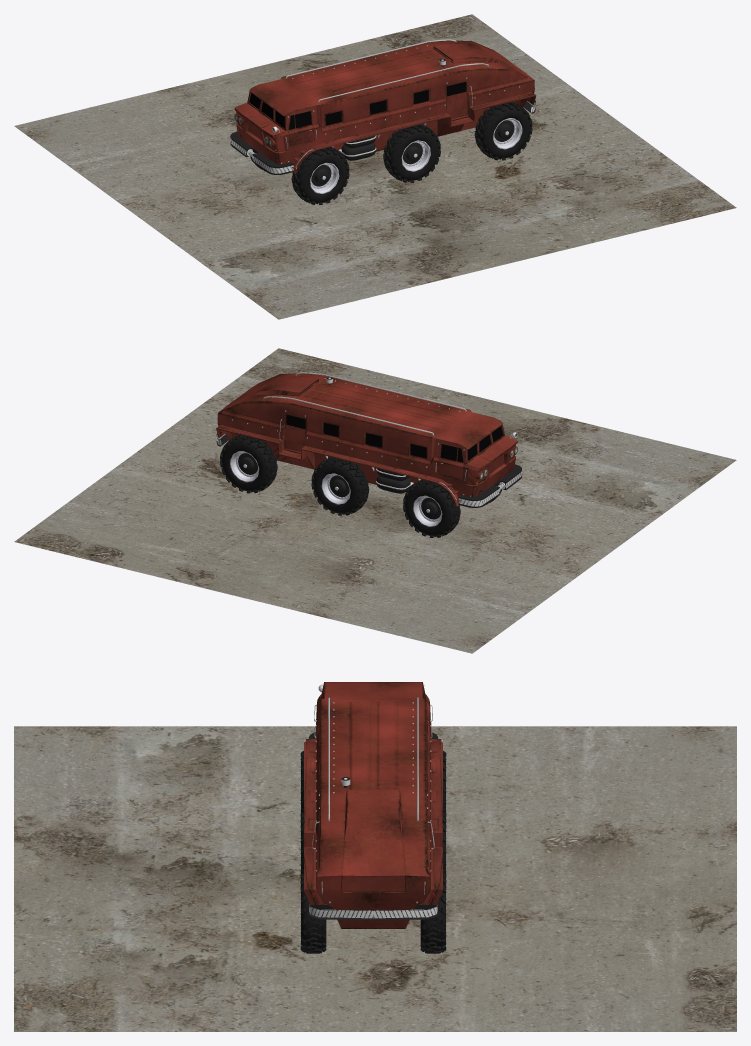
The model's file is zil-e167_car-transformed.glb.
The picture shows the model from 3 angles, top to bottom: view 1: azimuth 30°, elevation 25°; view 2: azimuth 150°, elevation 25°; view 3: azimuth 270°, elevation 25°; orthographic projection. The views are drawn at different scales.
Visible parts, largest first — view 1: Object_58, Object_5, Object_54, Object_7, Object_6, Object_48, Object_9; view 2: Object_58, Object_5, Object_54, Object_7, Object_6, Object_48, Object_9; view 3: Object_58, Object_5, Object_54, Object_17, Object_9, Object_7.
Boxes of the visible parts, box(x1,y1,x2,y2) form: Object_58: box(14, 14, 736, 319); Object_5: box(234, 40, 536, 173); Object_54: box(250, 102, 532, 204); Object_7: box(230, 47, 535, 186); Object_6: box(249, 81, 466, 129); Object_48: box(310, 118, 522, 193); Object_9: box(245, 39, 519, 188); Object_58: box(14, 348, 736, 653); Object_5: box(216, 373, 517, 506); Object_54: box(220, 435, 501, 537); Object_7: box(216, 377, 521, 519); Object_6: box(286, 414, 502, 462); Object_48: box(230, 451, 442, 526); Object_9: box(232, 372, 507, 521); Object_58: box(14, 726, 736, 1031); Object_5: box(304, 682, 442, 928); Object_54: box(300, 751, 446, 953); Object_17: box(309, 905, 437, 918); Object_9: box(304, 684, 442, 903); Object_7: box(308, 732, 438, 920).
Size of the model in its own units: 15.33 by 3.24 by 15.33.
10 materials, 4 textured.
